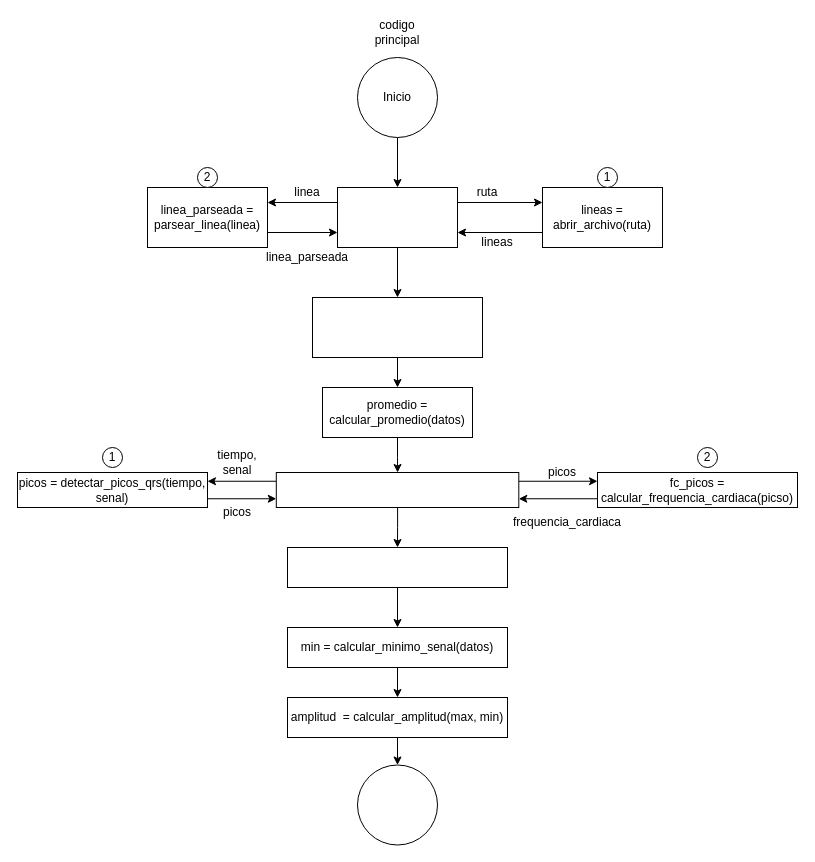
The diagram is 815 pixels wide and 862 high, and some of its shapes have lost their labels. The centre of each missing label's shape, as x and y in pixels:
"datos = cargar_datos(ruta)" belongs at [397,217].
"fc = calcular_fc_desde_datos(datos)" belongs at [397,490].
"Final" belongs at [397,804].
"max = calcular_maximo_senal(datos)" belongs at [397,567].
"participante = filtrar_por_participante(datos, id_participante)" belongs at [397,327].
